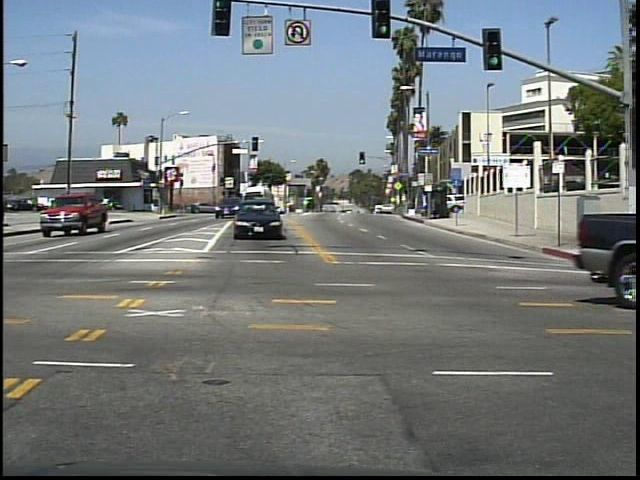person: (62, 192, 78, 220)
